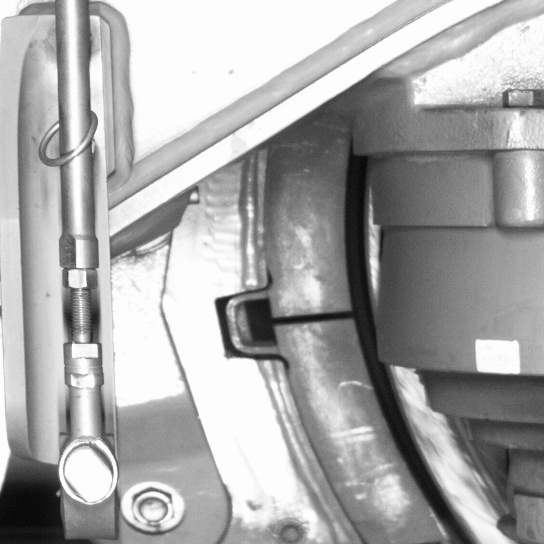KnifeSwitch: (295, 153, 482, 543)
